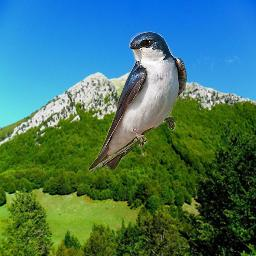Swallow: (88, 30, 188, 172)
